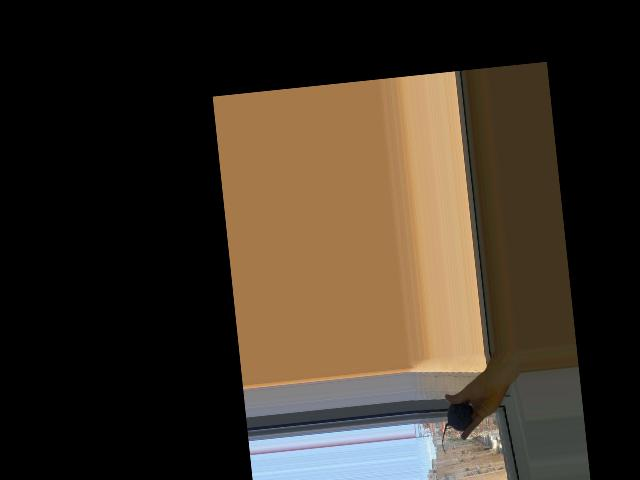beet: (438, 402, 477, 455)
